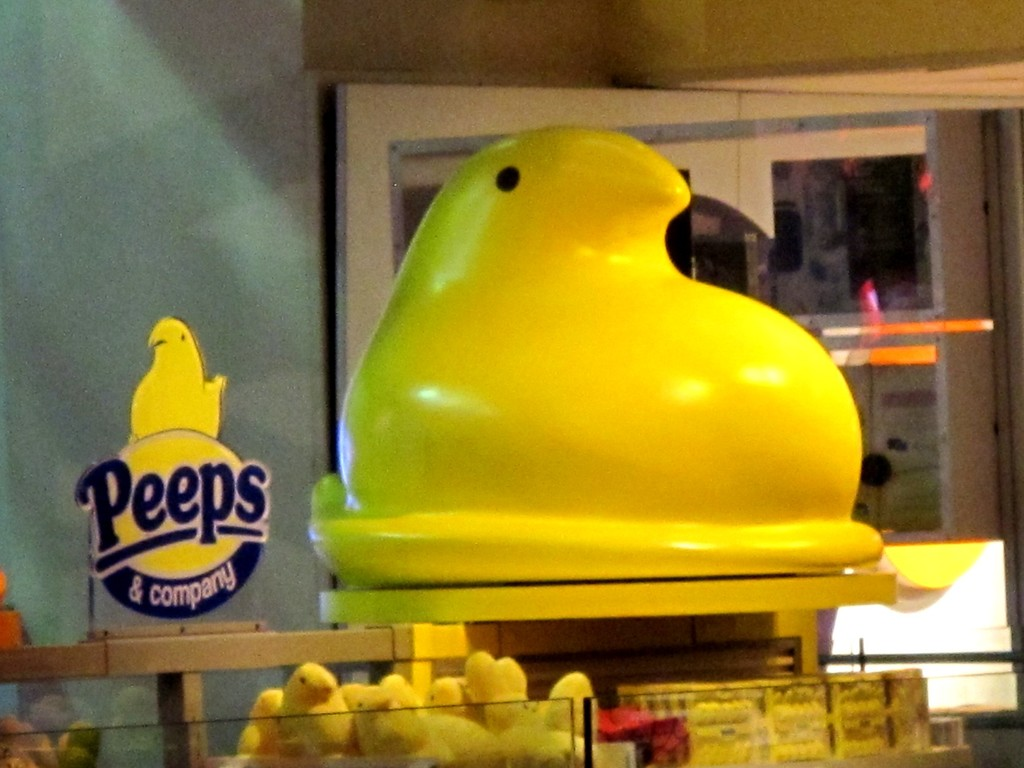Bird: (128, 114, 885, 768)
